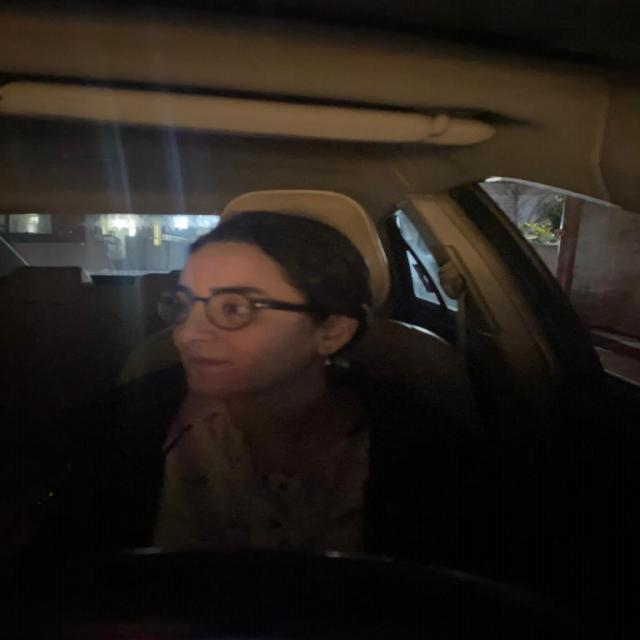person: (175, 220, 378, 392)
